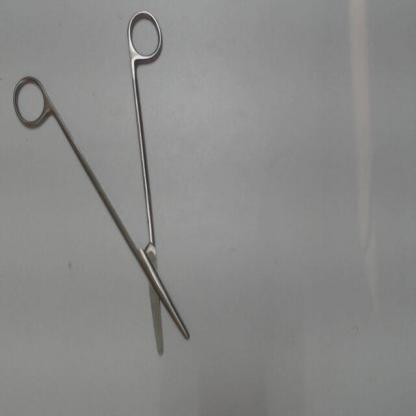9 Metzenbaum Scissors: (7, 5, 197, 357)
